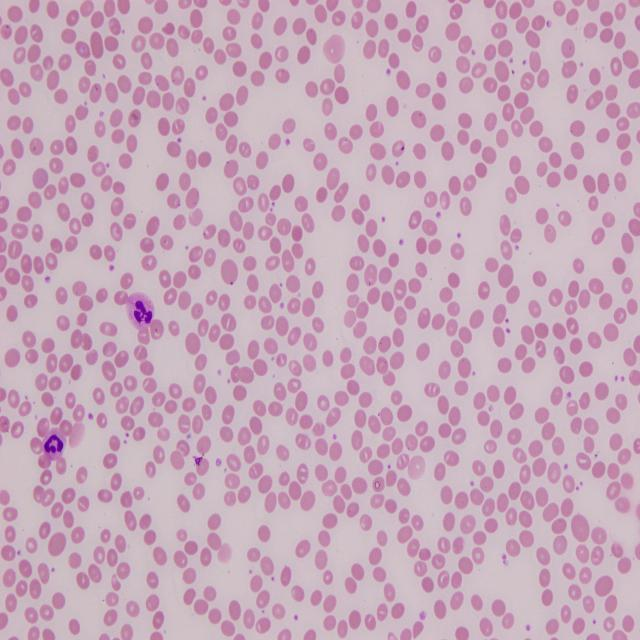cell: (126, 293, 154, 330), (42, 430, 65, 460)
